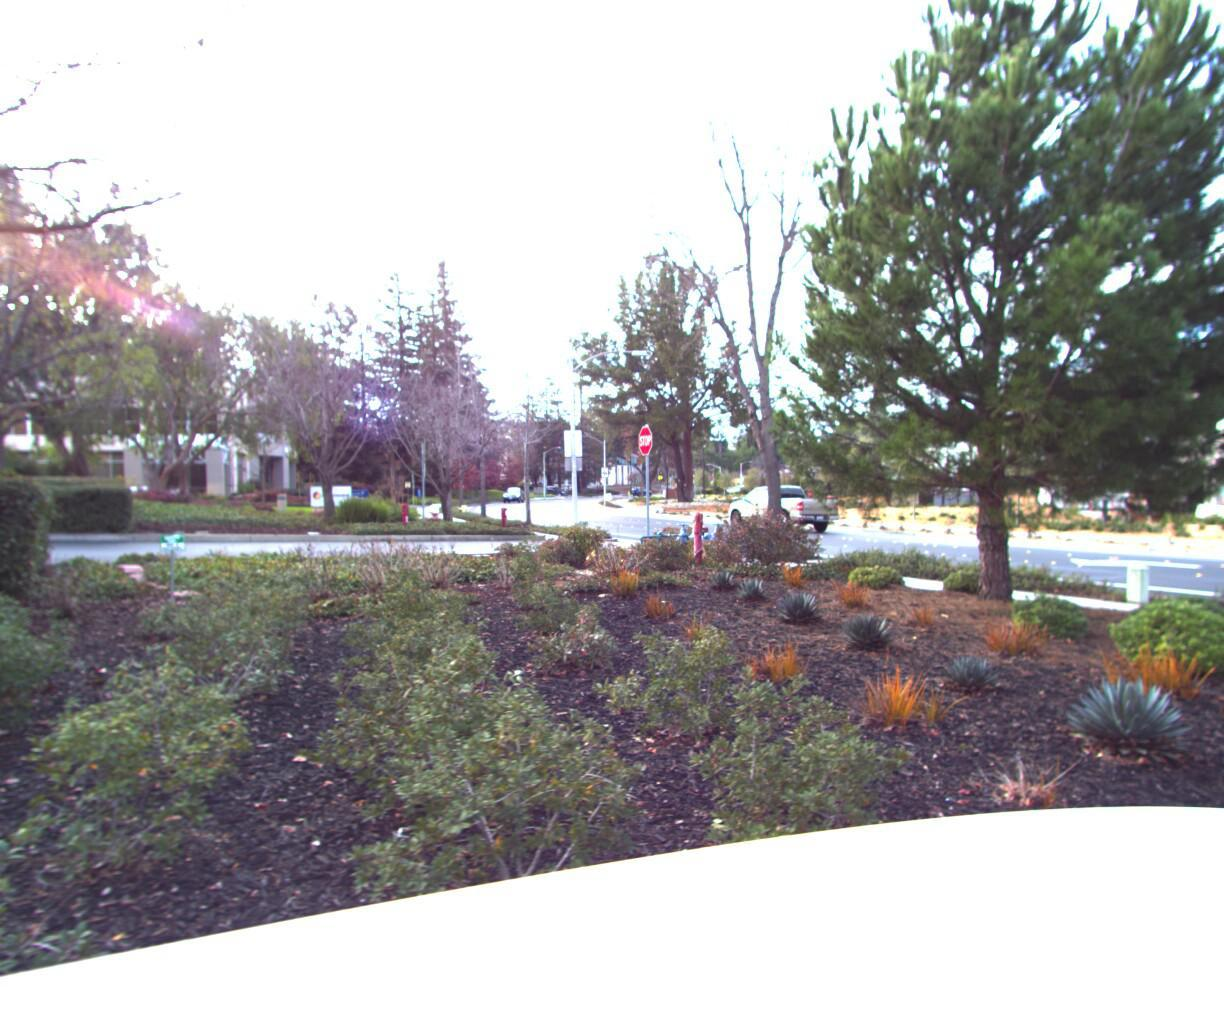car: (718, 478, 845, 531)
